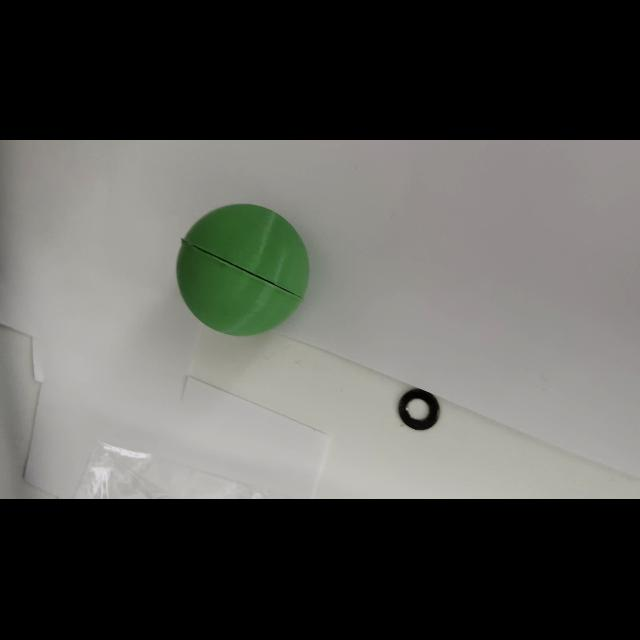objects: (171, 196, 315, 344)
